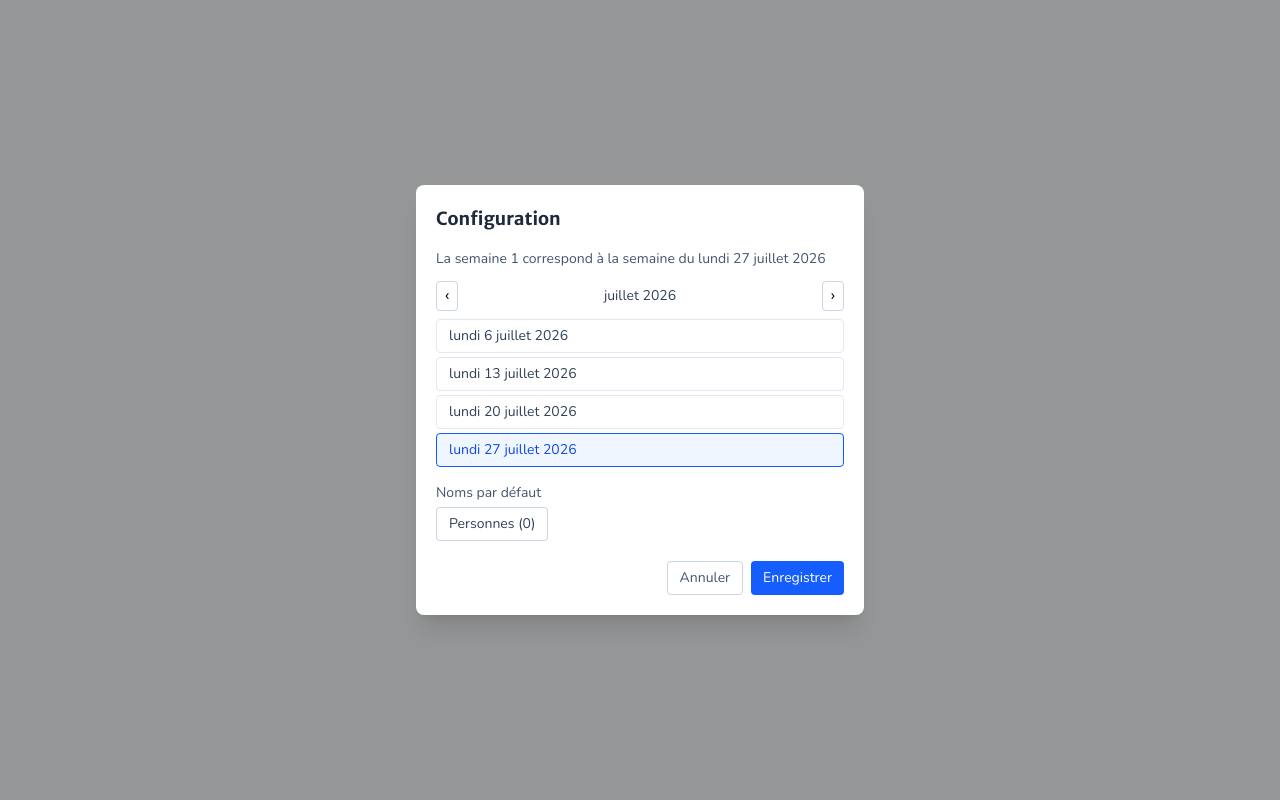
Test: ConfigModal › updates the label when a Monday is selected
Click the button named "Mois suivant". click: (833, 296)
box: [822,281,844,311]
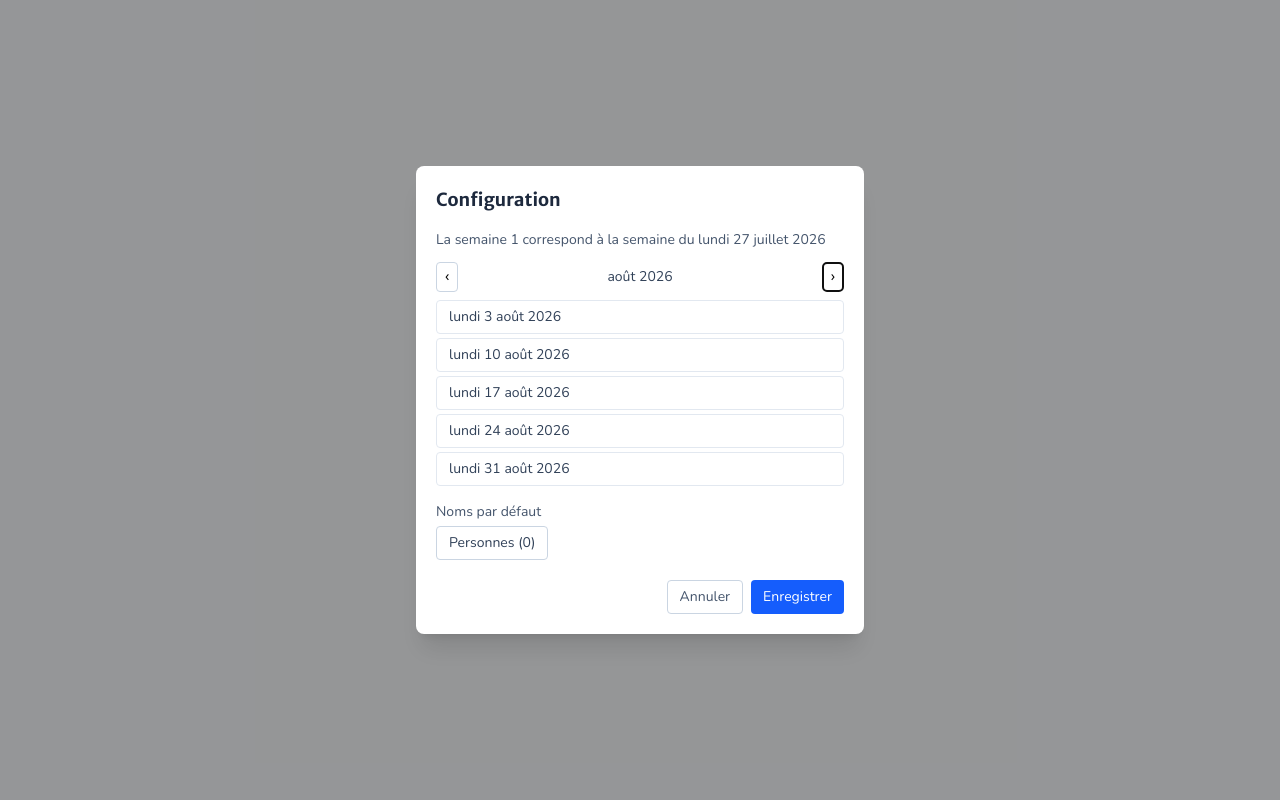
Click the button "lundi 10 août 2026". click: (509, 354)
box: [436,338,844,372]
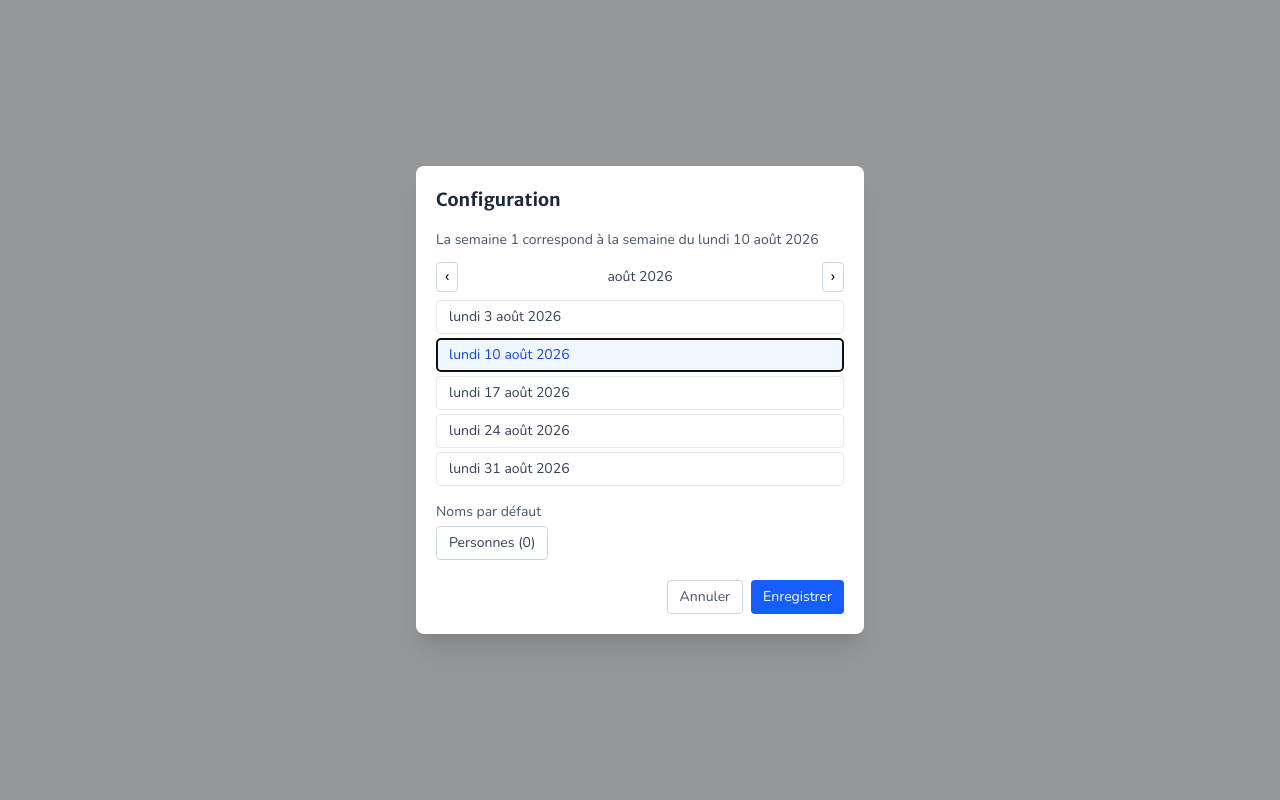
Now the text "La semaine 1 correspond à la semaine du lundi 10 août 2026" is shown, box [436,230,844,250]
